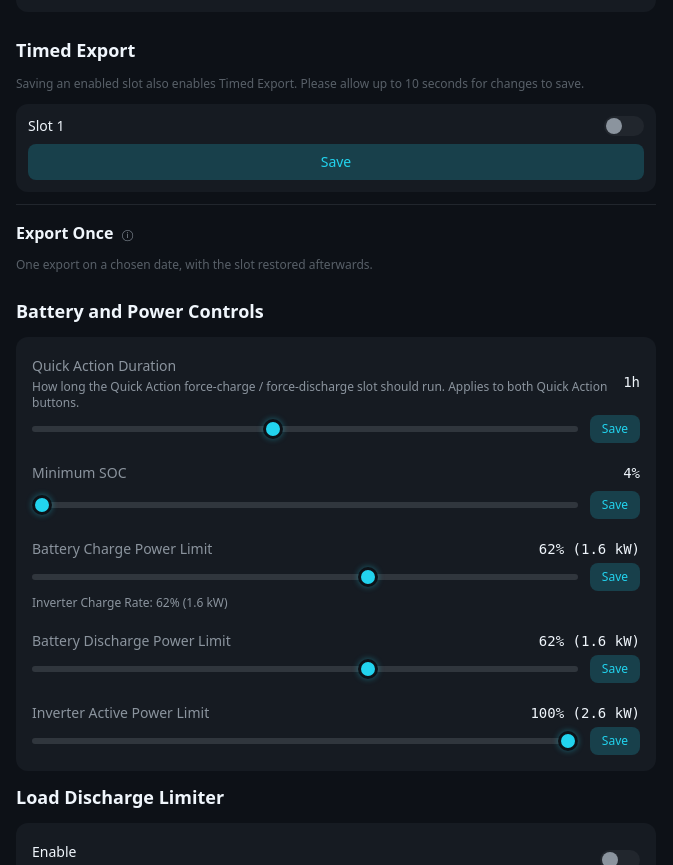
Control page: inverter-reported charge limit › keeps showing the reported value while the slider is dragged but not saved
The image size is (673, 865).
(page scrolled)
Set the slider labelled "Quick Action Duration" to "30" at (56, 429), box [32,417,578,441]
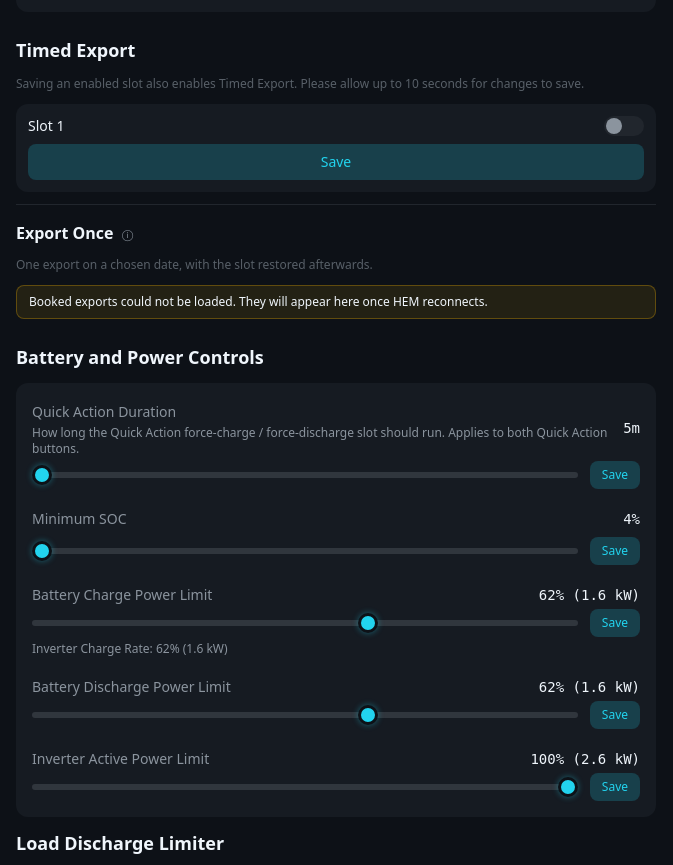
Check: the text "Inverter Charge Rate: 62% (1.6 kW)" is shown once, box [32,640,228,657]
